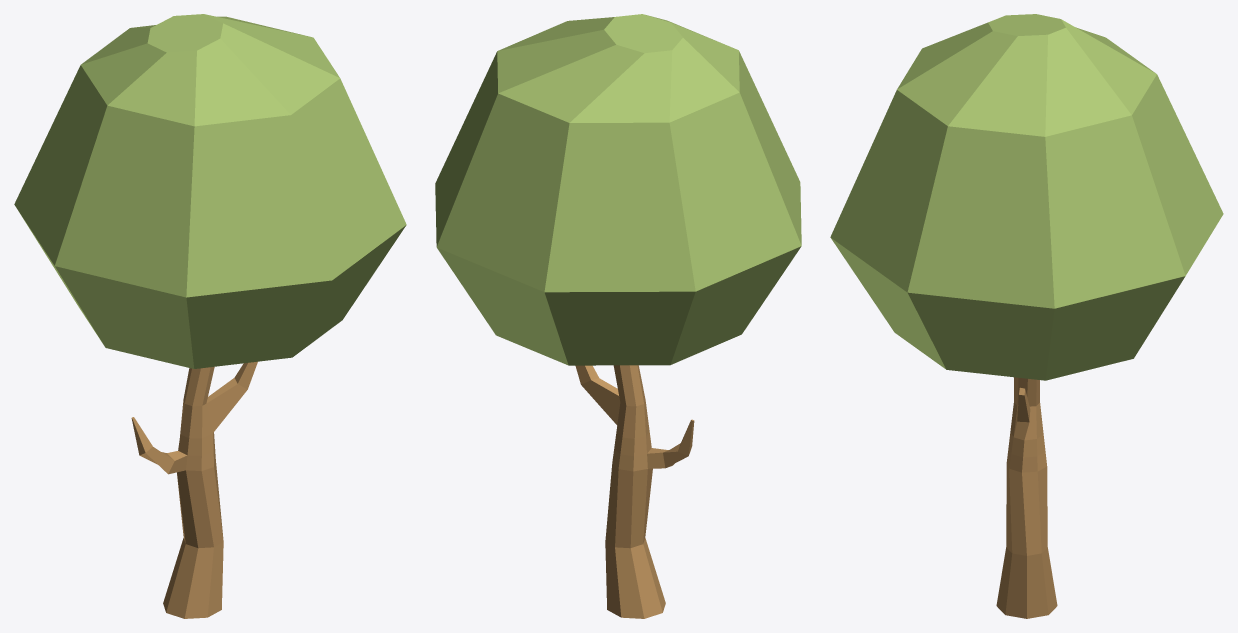
Rendered from tree.fbx.
3 views of the same model, side by side, from view 1: azimuth 30°, elevation 25°; view 2: azimuth 150°, elevation 25°; view 3: azimuth 270°, elevation 25° (orthographic).
Visible parts, largest first — view 1: Circle.004; view 2: Circle.004; view 3: Circle.004.
Part boxes in pixels (bbox=[...]): Circle.004: bbox=[14, 14, 406, 618]; Circle.004: bbox=[435, 14, 801, 618]; Circle.004: bbox=[830, 14, 1223, 618].
Size of the model in its own units: 297 by 486 by 297.
Materials: 1 (1 with a texture image).
